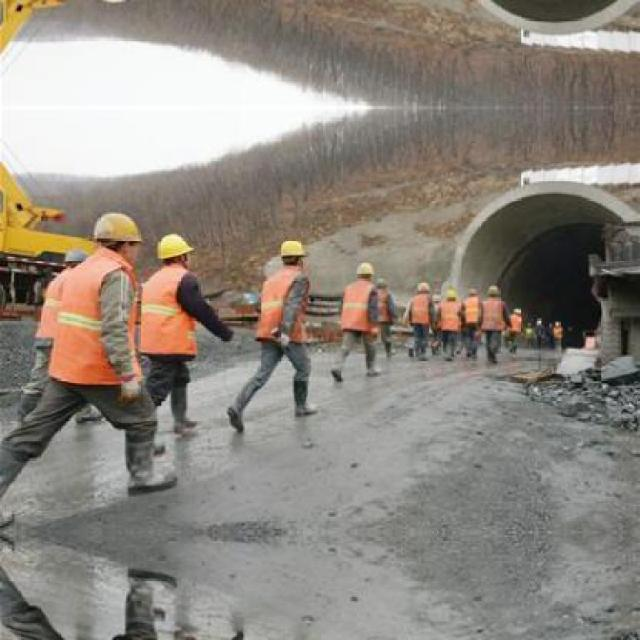helmet: (88, 208, 143, 263), (153, 230, 192, 272), (280, 234, 306, 271), (60, 242, 85, 272), (353, 260, 376, 286), (483, 282, 502, 300), (413, 278, 433, 294), (443, 285, 455, 303)
